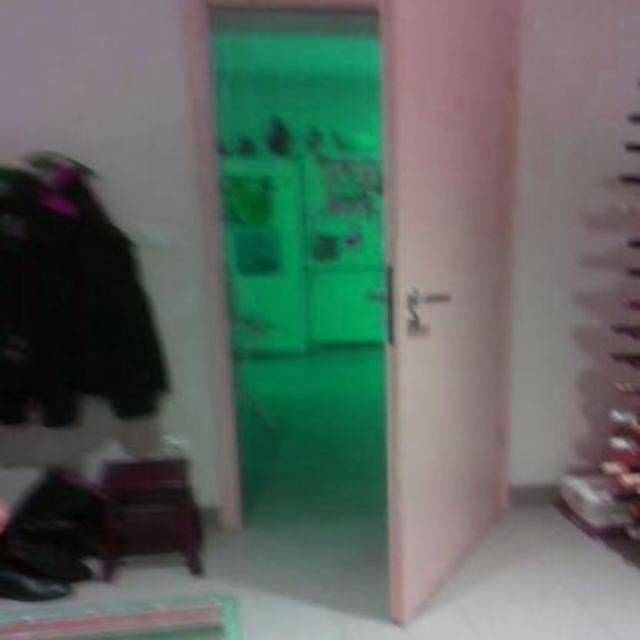door: (348, 1, 534, 623)
